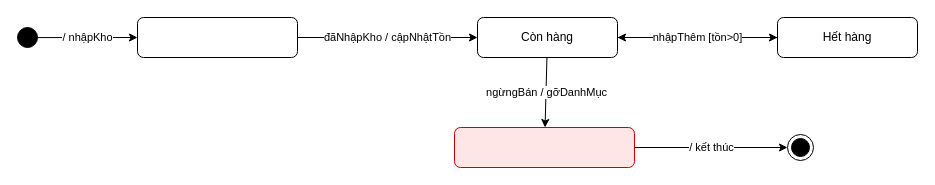
Image size: 935x185. Some labels were removed from this diagram. Here are the shapes that lost their labels. From the top down, the centre of each, then its label:
(217,37): Chờ nhập kho
(544,147): Ngừng kinh doanh
